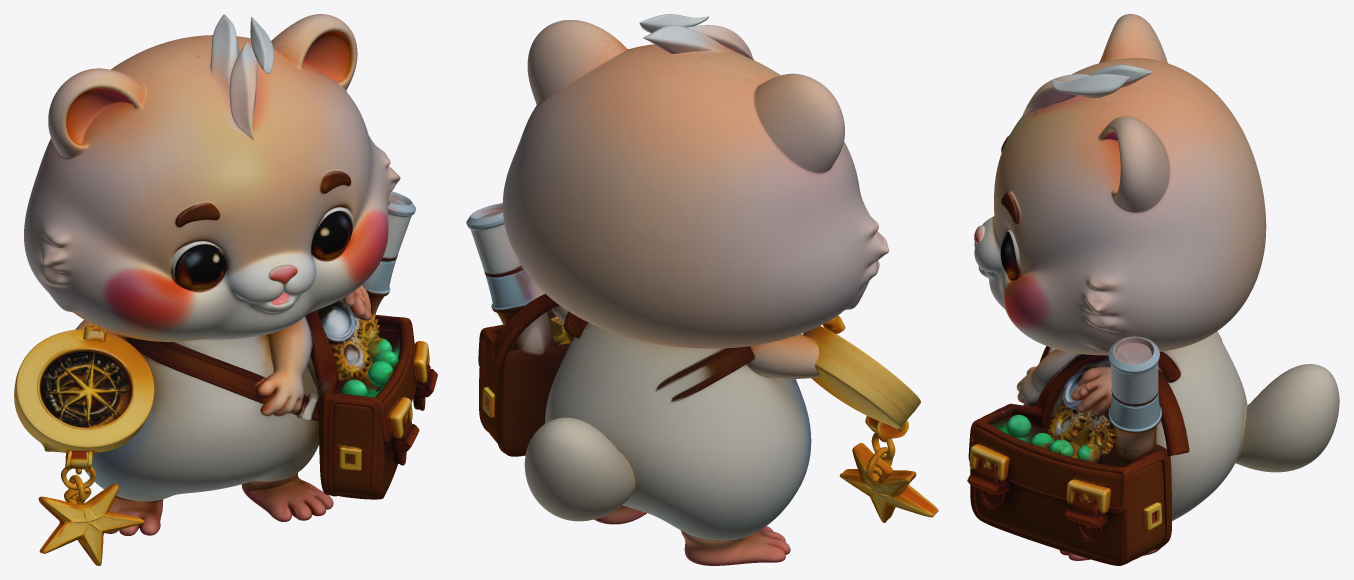
Rendered from mochi-supplied.glb.
The picture shows the model from 3 angles, left to right: view 1: azimuth 30°, elevation 25°; view 2: azimuth 150°, elevation 25°; view 3: azimuth 270°, elevation 25°; orthographic projection. The views are drawn at different scales.
Parts seen in each view (by area): view 1: material; view 2: material; view 3: material.
Part boxes in pixels (<box>): material: <box>14,14,437,565</box>; material: <box>466,14,938,565</box>; material: <box>967,14,1339,565</box>.
Size of the model in its own units: 0.8338 by 0.9186 by 0.6718.
Materials: 1 (1 with a texture image).
